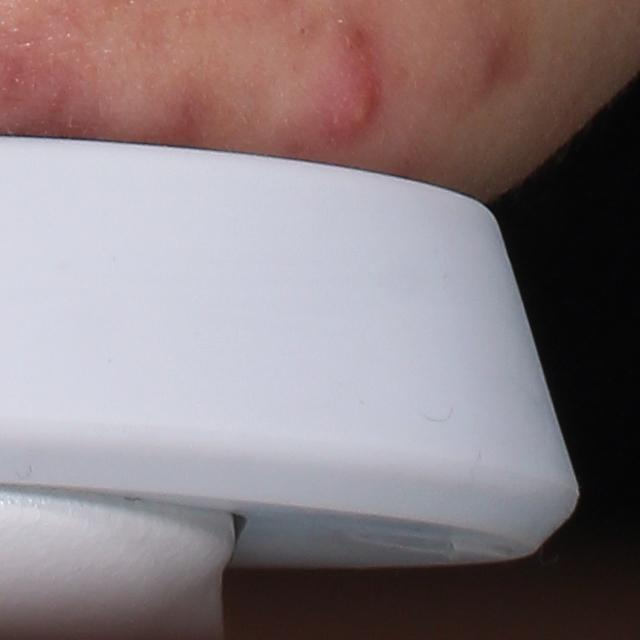comedo: (296, 19, 315, 40)
papule: (319, 55, 384, 157)
